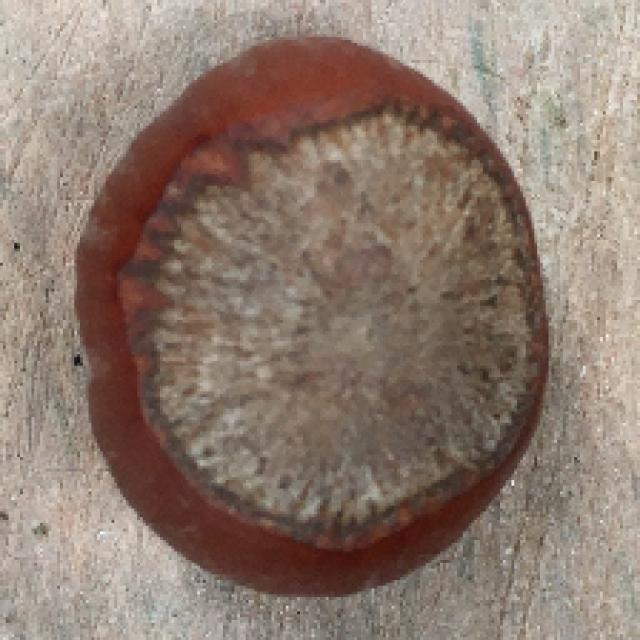QualityHazelnut: (70, 44, 558, 606)
